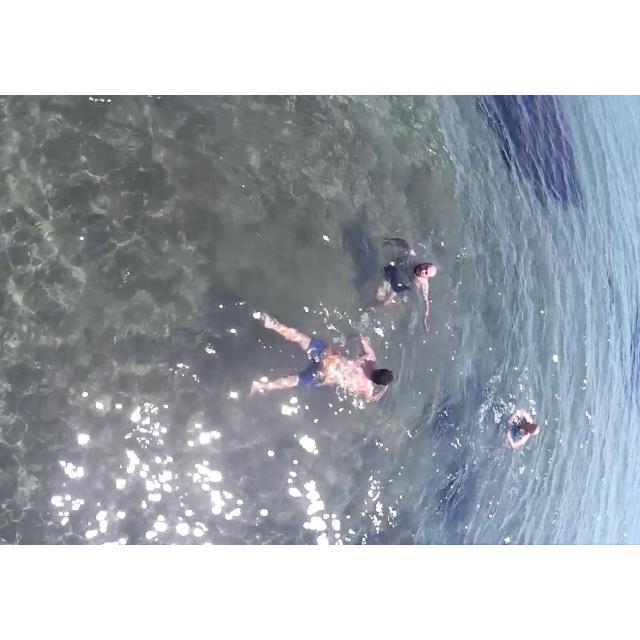human: (248, 302, 390, 416), (369, 219, 435, 322), (498, 392, 550, 456)
